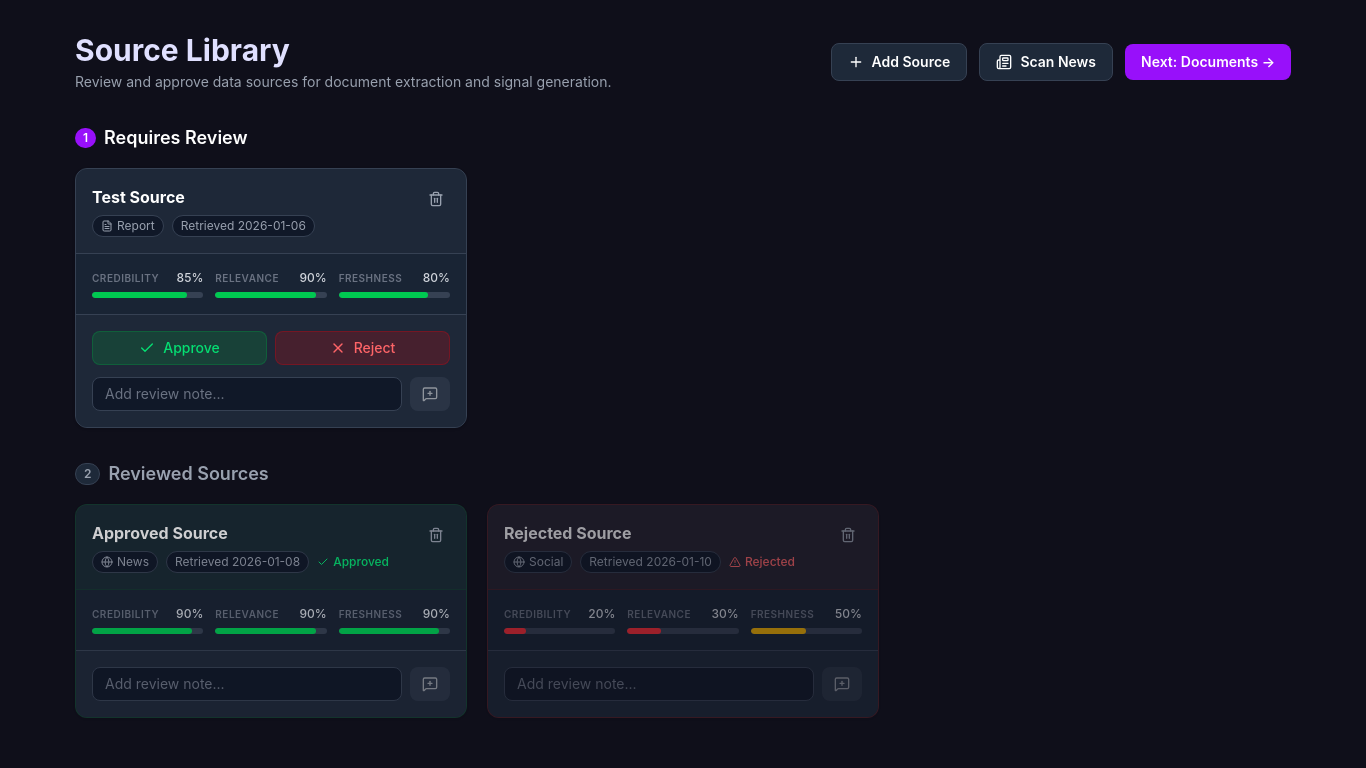
Test case: SourceLibrary component › approves a source and changes status
The image size is (1366, 768).
Click the button "Approve". click: (180, 348)
box: [92,331,267,365]
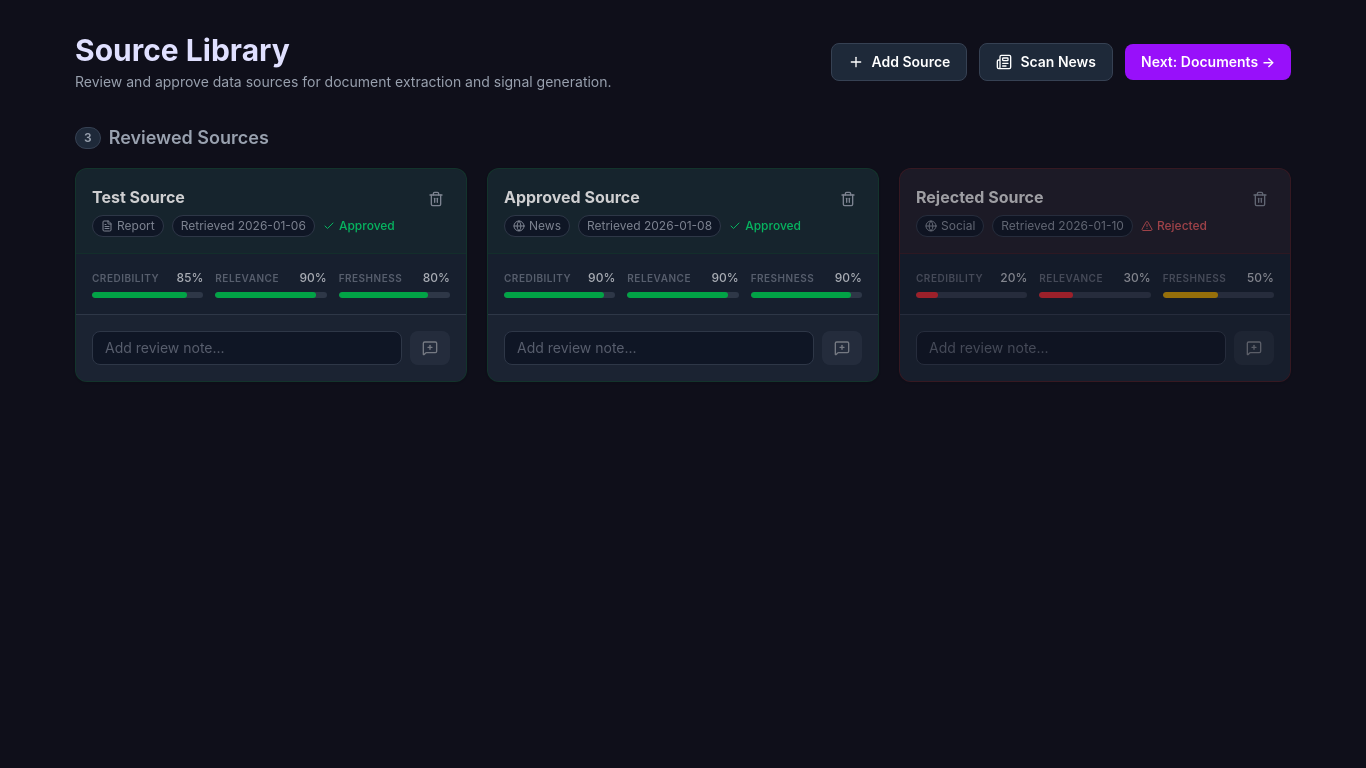
Now the text "Test Source" shows "Approved", box [339,218,395,233]
